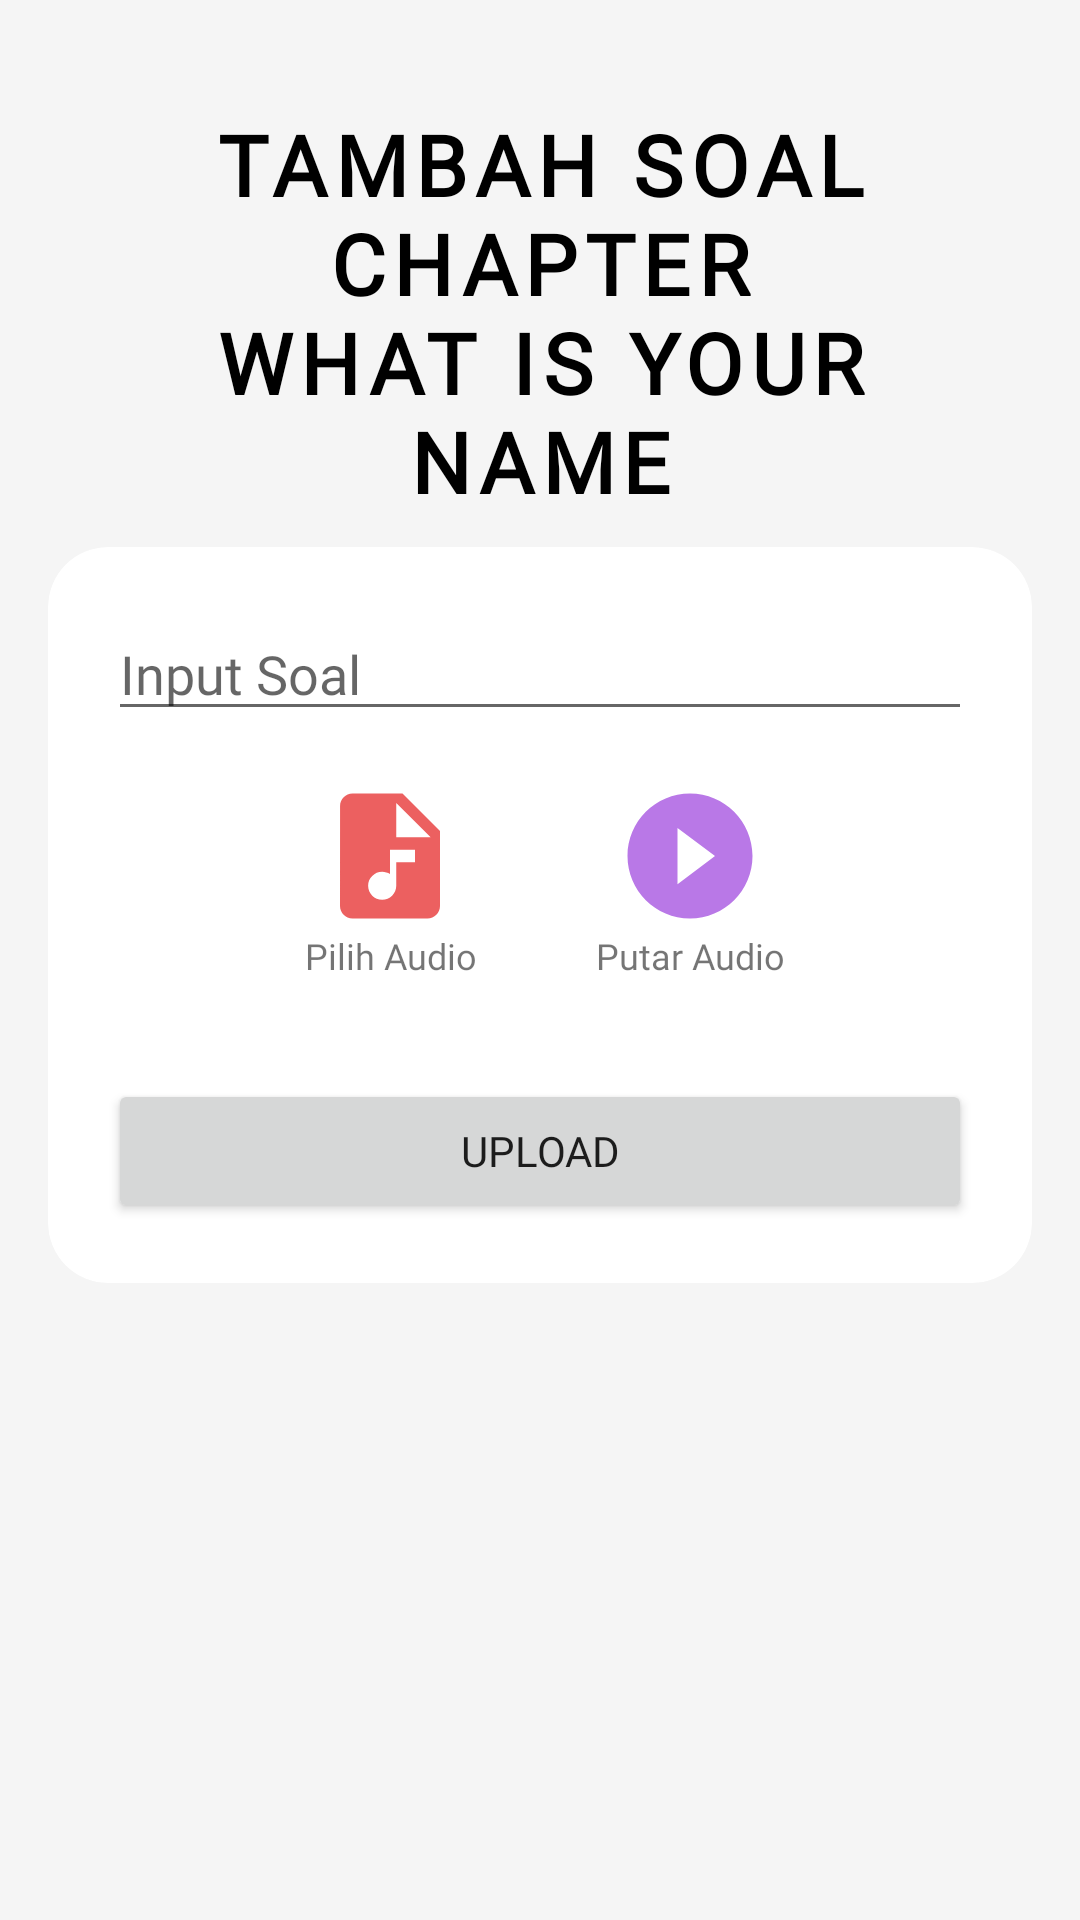

Point at icon controls on the screen. Image size 1080w x 1920h, points as (x=x, y=y).
audio file: (x=390, y=856)
play circle: (x=690, y=856)
